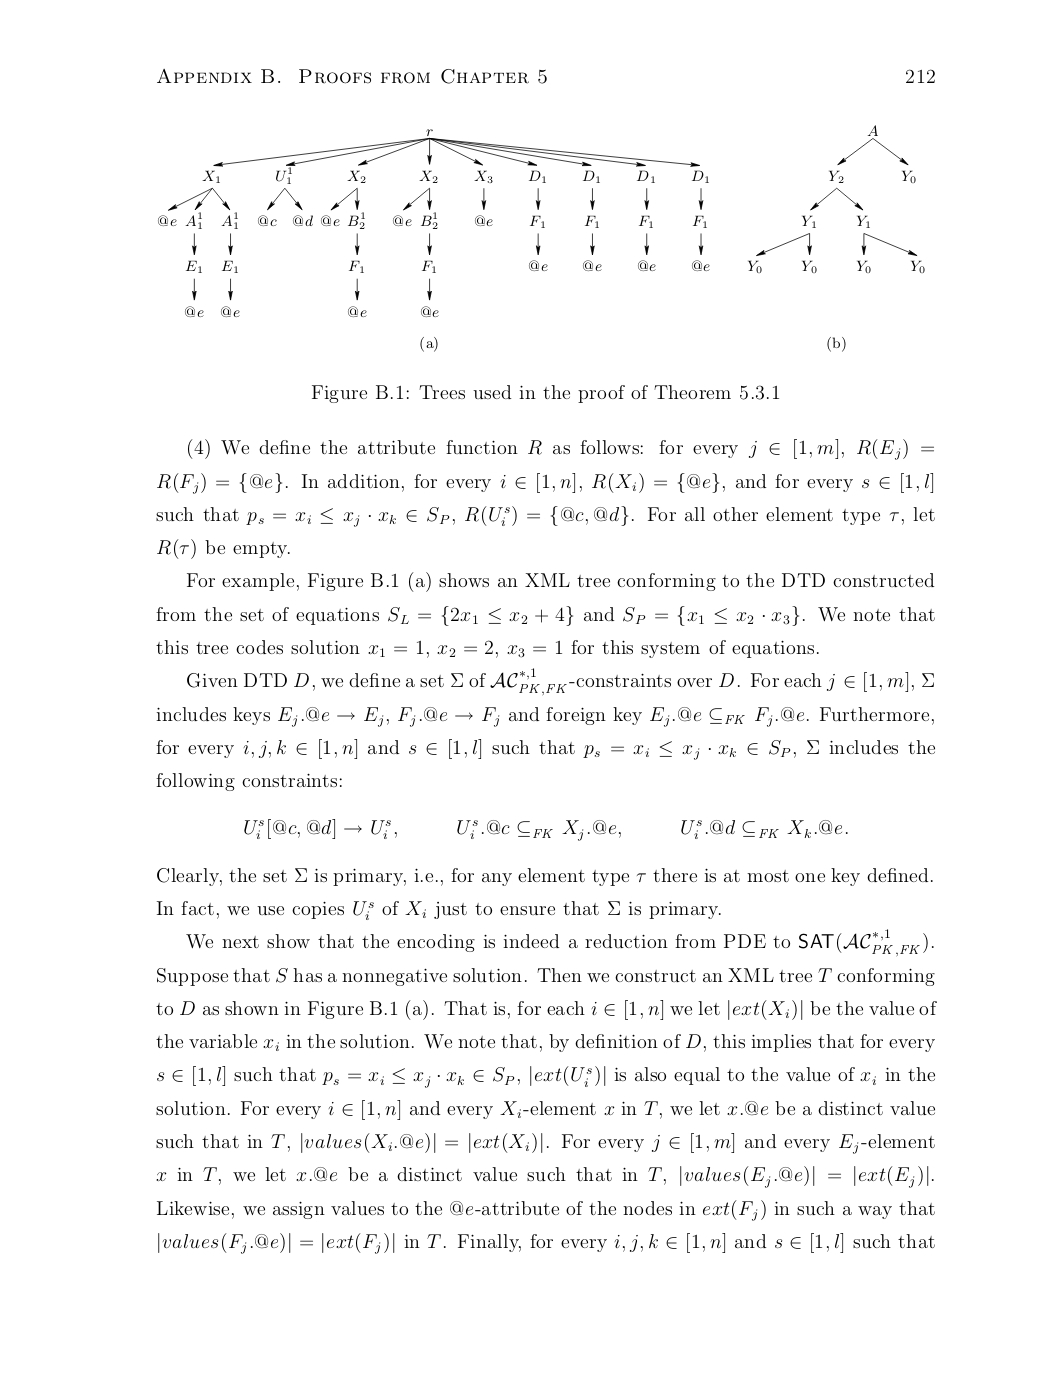figure: (157, 129, 709, 317), (747, 125, 924, 273)
formula: (244, 818, 847, 841)
